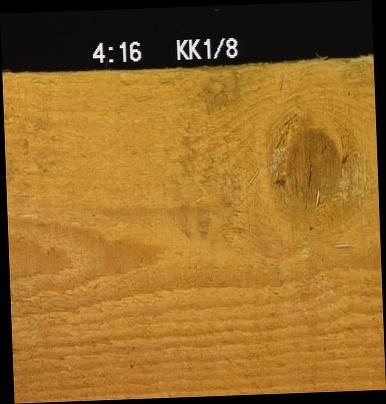sound_knot: (266, 110, 355, 212)
